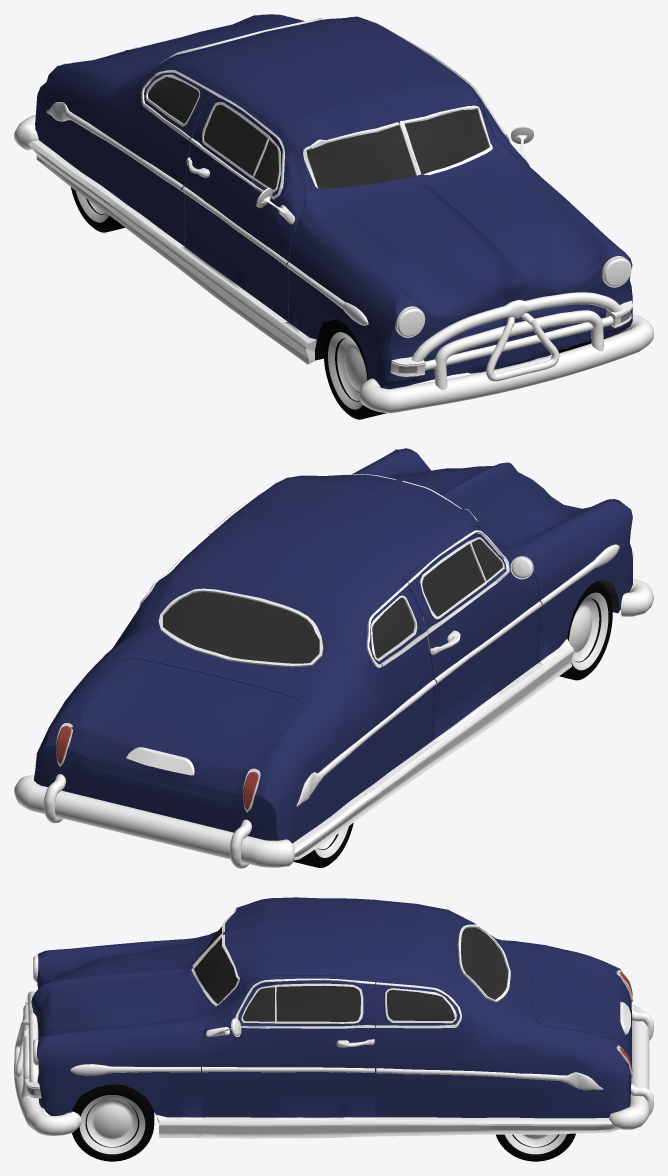
The model's file is AL_hhornet_navy_TL.fbx.
3 views of the same model, one above another, from view 1: azimuth 30°, elevation 25°; view 2: azimuth 150°, elevation 25°; view 3: azimuth 270°, elevation 25° (orthographic). The views are drawn at different scales.
Visible parts, largest first — view 1: pPlane5, pCylinder3, pCylinder29, pCylinder5, pCylinder19, pCylinder9, pCylinder10, pCylinder6, pCylinder30, pCylinder7, pCylinder8, pCube2; view 2: pPlane5, pCylinder24, pCylinder29, pCylinder19, pCylinder30, pCylinder3, pCylinder25, pCylinder26; view 3: pPlane5, pCylinder28, pCylinder18, pCylinder24, pCylinder20, pCylinder3, pCylinder5, pCylinder10, pCylinder9.
Boxes of the visible parts, left/top/right/bottom form: pPlane5: left=28, top=14, right=632, bottom=389; pCylinder3: left=360, top=314, right=653, bottom=413; pCylinder29: left=323, top=320, right=386, bottom=419; pCylinder5: left=411, top=292, right=621, bottom=361; pCylinder19: left=46, top=102, right=368, bottom=325; pCylinder9: left=434, top=310, right=604, bottom=390; pCylinder10: left=486, top=313, right=559, bottom=381; pCylinder6: left=425, top=316, right=613, bottom=370; pCylinder30: left=71, top=187, right=125, bottom=232; pCylinder7: left=601, top=256, right=631, bottom=287; pCylinder8: left=395, top=306, right=425, bottom=337; pCube2: left=390, top=356, right=425, bottom=376; pPlane5: left=34, top=448, right=632, bottom=860; pCylinder24: left=14, top=775, right=294, bottom=867; pCylinder29: left=559, top=581, right=612, bottom=680; pCylinder19: left=296, top=544, right=619, bottom=806; pCylinder30: left=293, top=823, right=353, bottom=867; pCylinder3: left=621, top=578, right=653, bottom=616; pCylinder25: left=44, top=774, right=65, bottom=823; pCylinder26: left=230, top=819, right=251, bottom=868; pPlane5: left=31, top=897, right=631, bottom=1138; pCylinder28: left=72, top=1084, right=154, bottom=1161; pCylinder18: left=70, top=1064, right=603, bottom=1090; pCylinder24: left=609, top=1004, right=649, bottom=1129; pCylinder20: left=496, top=1133, right=575, bottom=1161; pCylinder3: left=14, top=1060, right=81, bottom=1135; pCylinder5: left=27, top=991, right=38, bottom=1082; pCylinder10: left=14, top=1019, right=28, bottom=1077; pCylinder9: left=21, top=1004, right=29, bottom=1097.
Bounding box in the file's own units: 2.14 × 1.6 × 4.95.
